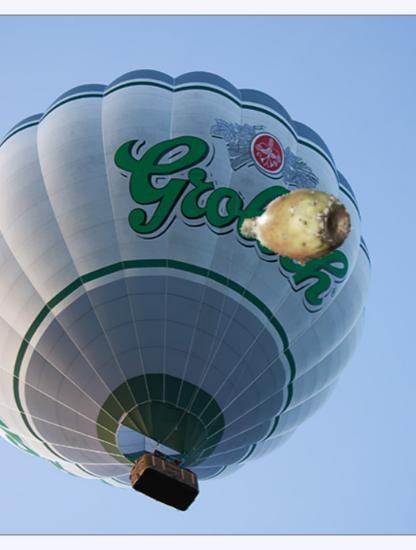Cactus: (238, 171, 353, 286)
